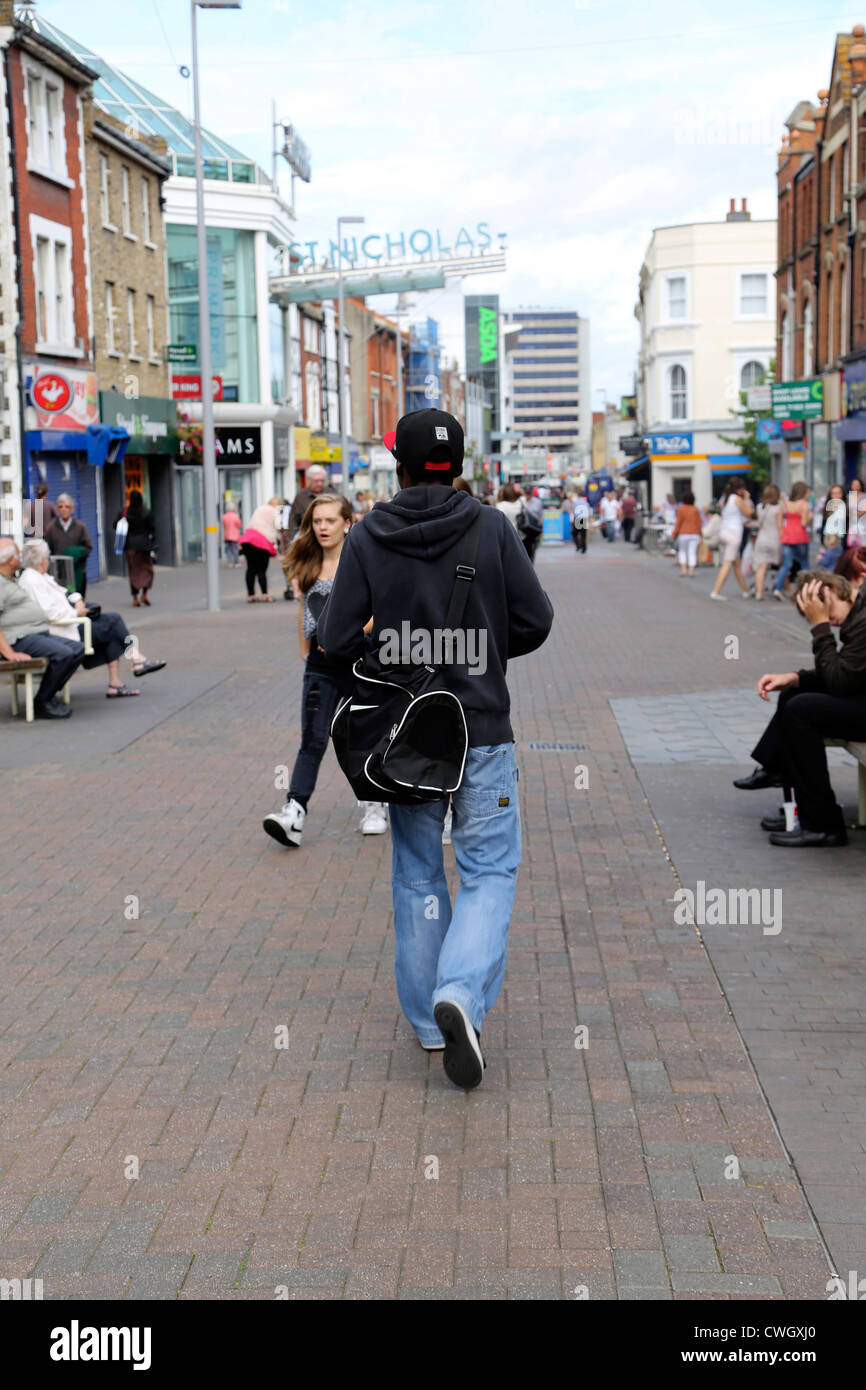person: (318, 402, 559, 1094), (729, 565, 866, 848), (285, 494, 361, 840), (1, 542, 81, 722), (114, 487, 159, 605), (51, 489, 92, 590), (242, 496, 283, 596)
